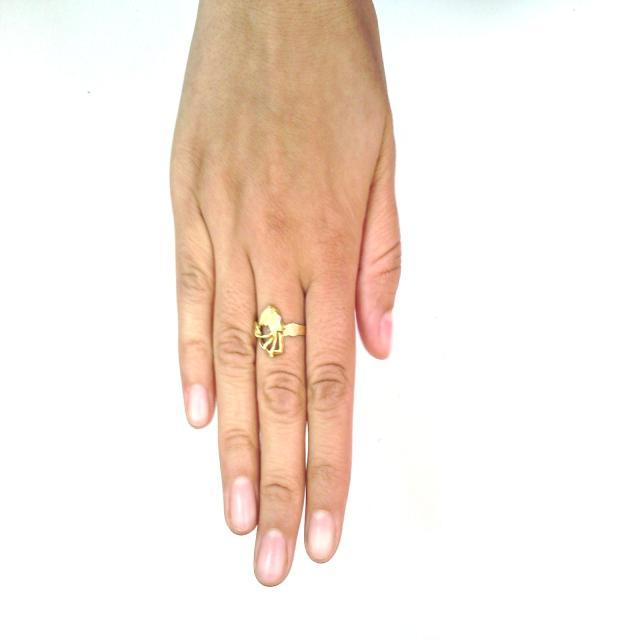Fingernail: (258, 530, 287, 584), (229, 477, 256, 532), (307, 511, 333, 560), (187, 385, 208, 425), (381, 312, 393, 347)
